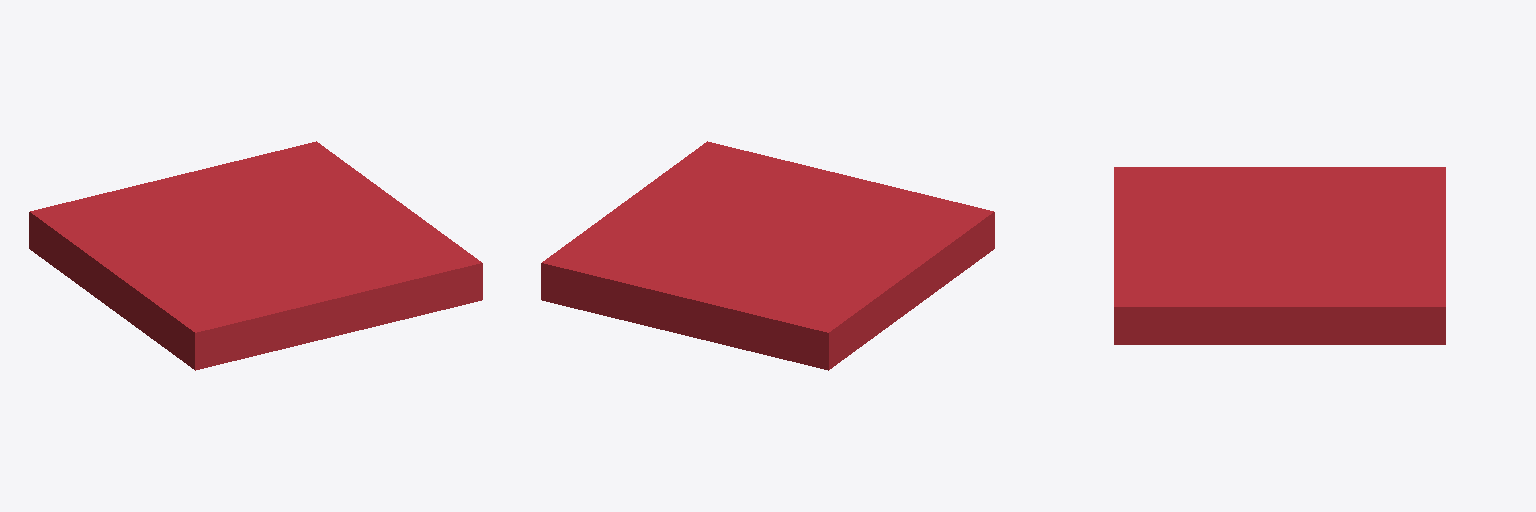
Rendered from BigFace.obj.
3 renders of one model, left to right at view 1: azimuth 30°, elevation 25°; view 2: azimuth 150°, elevation 25°; view 3: azimuth 270°, elevation 25°, orthographic.
Visible parts, largest first — view 1: BigFace_Cube.013; view 2: BigFace_Cube.013; view 3: BigFace_Cube.013.
Part boxes in pixels (bbox=[...]): BigFace_Cube.013: bbox=[29, 141, 482, 370]; BigFace_Cube.013: bbox=[541, 141, 994, 370]; BigFace_Cube.013: bbox=[1114, 167, 1445, 344].
Size of the model in its own units: 2 by 0.25 by 2.